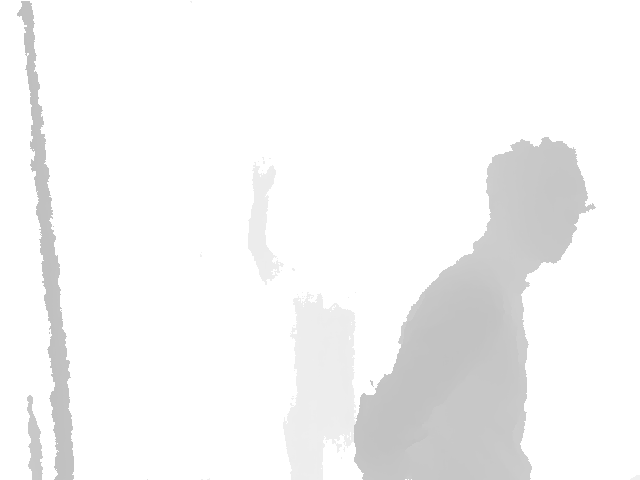hand: (251, 159, 276, 197)
head: (485, 137, 596, 262)
person: (350, 137, 596, 480), (247, 159, 359, 480)
